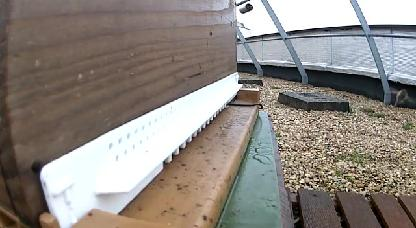bee: (383, 81, 416, 111)
